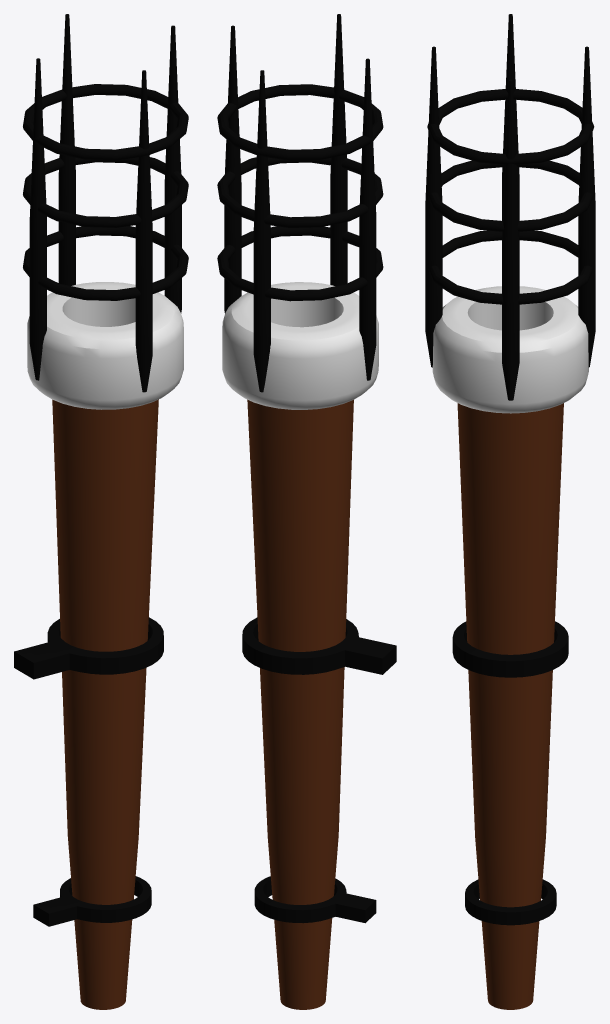
Rendered from Torch.fbx.
3 views of the same model, side by side, from view 1: azimuth 30°, elevation 25°; view 2: azimuth 150°, elevation 25°; view 3: azimuth 270°, elevation 25° (orthographic).
Parts seen in each view (by area): view 1: Torch; view 2: Torch; view 3: Torch.
Boxes of the visible parts, left/top/right/bottom form: Torch: left=14, top=14, right=188, bottom=1009; Torch: left=217, top=14, right=396, bottom=1009; Torch: left=425, top=14, right=595, bottom=1009.
Size of the model in its own units: 34.64 by 196 by 31.69.
